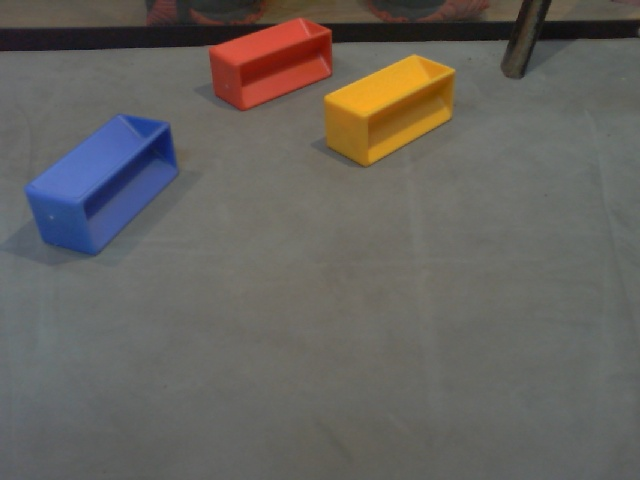BlueSample: (20, 106, 180, 261)
RedSample: (209, 16, 334, 110)
YellowSample: (319, 54, 456, 167)
